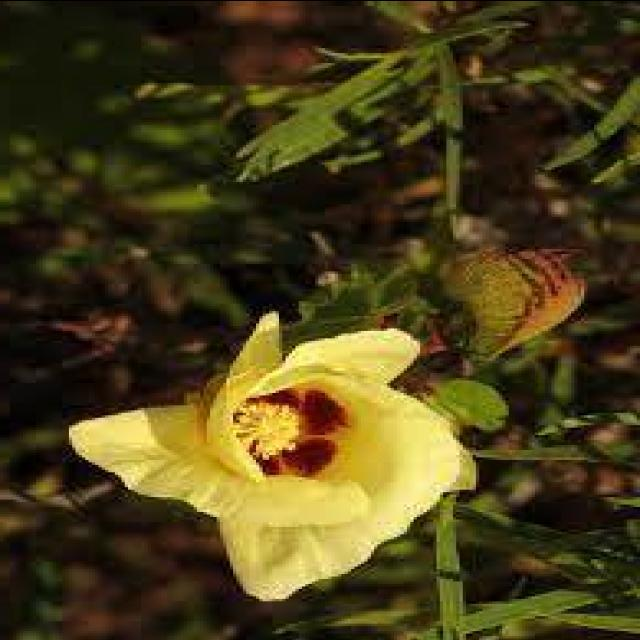Cotton Blossom: (73, 348, 480, 596)
Cotton Bud: (436, 245, 590, 371)
